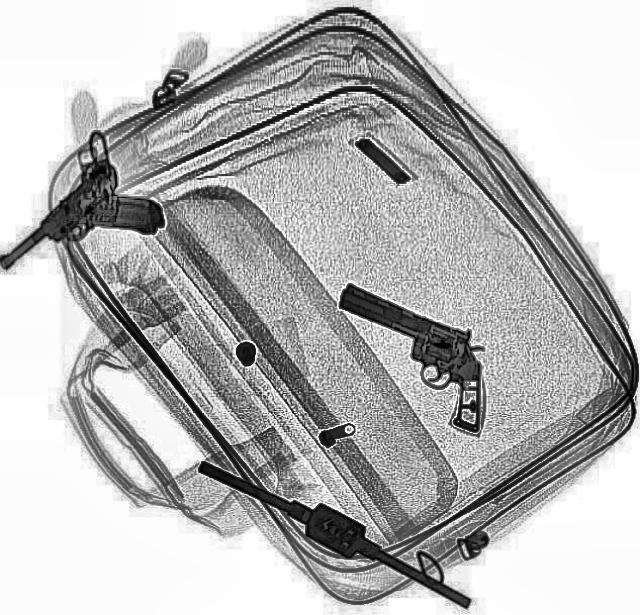Gun: (302, 279, 518, 435), (0, 156, 164, 300)
